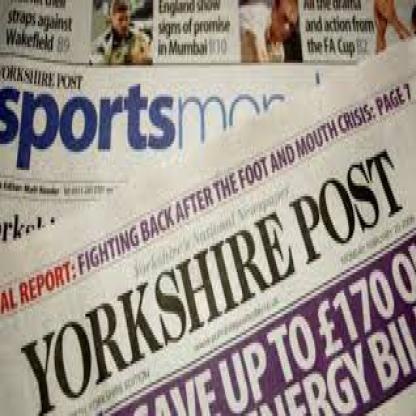paper: (0, 29, 415, 413), (0, 0, 415, 244)
